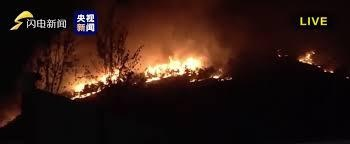fire: (144, 51, 207, 82), (66, 64, 123, 98), (296, 48, 315, 64)
